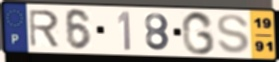1: (117, 10, 132, 52)
6: (65, 8, 95, 52)
8: (144, 12, 171, 52)
G: (180, 10, 216, 56)
R: (27, 8, 61, 49)
S: (215, 13, 252, 55)
